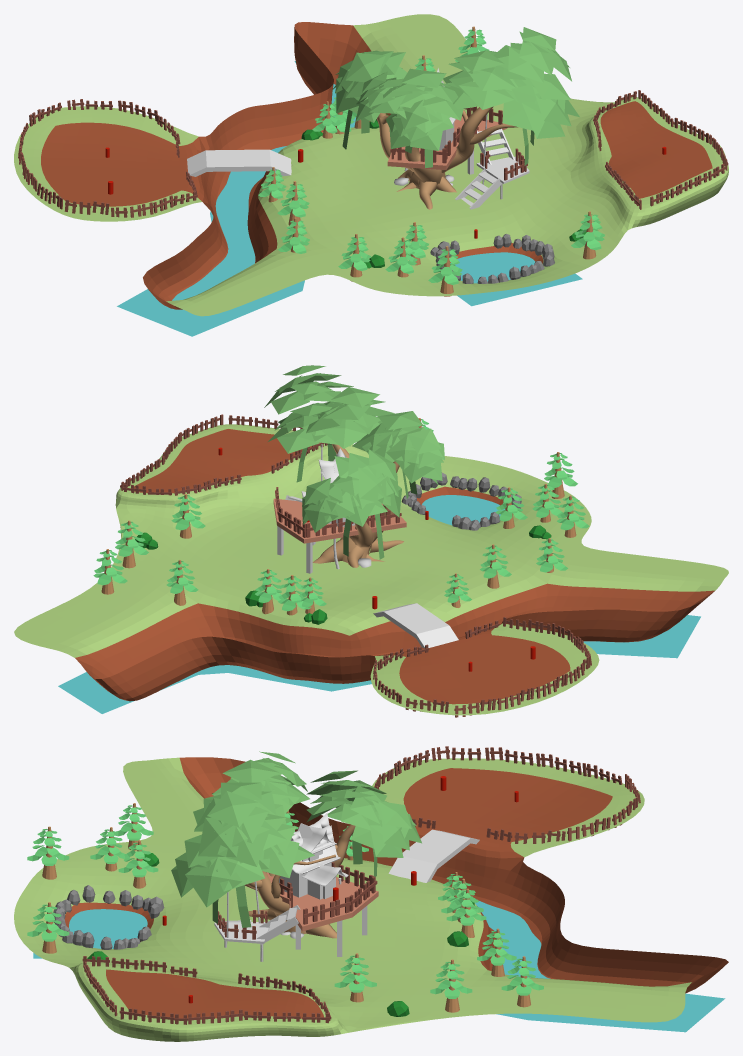
Rendered from Rumah_Layout.fbx.
3 views of the same model, one above another, from view 1: azimuth 30°, elevation 25°; view 2: azimuth 150°, elevation 25°; view 3: azimuth 270°, elevation 25° (orthographic). The views are drawn at different scales.
Visible parts, largest first — view 1: Plane.001, Plane.000, Plane.005, Plane.010, Plane.011, Plane.018, Plane.007, Plane.006, Cube.096, Cube, Plane.009, Cube.064 (+17 smaller); view 2: Plane.001, Plane.000, Plane.010, Plane.011, Cube.096, Plane.002, Plane.007, Cube, Plane.017, Cube.064, Plane.008, Plane.006 (+16 smaller); view 3: Plane.001, Plane.000, Plane.007, Cube.096, Plane.005, Plane.017, Cube.064, Cube, Plane.018, Cube.005, Plane.006, Plane.008 (+22 smaller).
Part boxes in pixels (x1,y1,x2,y2): Plane.001: (14,14,728,316); Plane.000: (117,61,356,336); Plane.005: (502,73,579,138); Plane.010: (443,50,525,109); Plane.011: (335,51,407,122); Plane.018: (451,252,582,306); Plane.007: (493,27,571,82); Plane.006: (391,68,463,132); Cube.096: (593,90,728,209); Cube: (187,149,291,176); Plane.009: (386,100,453,150); Cube.064: (430,229,554,283); Plane.001: (14,424,728,715); Plane.000: (58,615,700,713); Plane.010: (306,387,394,448); Plane.011: (334,449,401,517); Cube.096: (120,414,327,495); Plane.002: (386,427,444,483); Plane.007: (264,365,353,414); Cube: (373,603,458,648); Plane.017: (302,478,354,532); Cube.064: (401,472,521,530); Plane.008: (268,403,350,453); Plane.006: (352,411,422,462); Plane.001: (14,757,728,1041); Plane.000: (475,899,725,1032); Plane.007: (194,791,286,866); Cube.096: (82,956,331,1024); Plane.005: (171,834,264,907); Plane.017: (351,800,421,857); Cube.064: (53,885,166,949); Cube: (388,829,479,882); Plane.018: (33,909,147,958); Cube.005: (244,872,378,931); Plane.006: (212,759,309,814); Plane.008: (258,813,314,878).
Size of the model in its own units: 4317 by 1445 by 4381.
